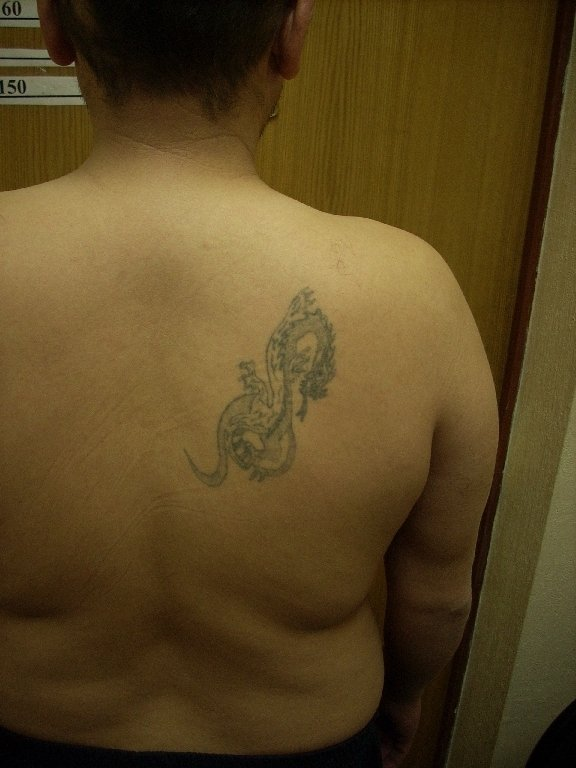tatu6_drakon: (178, 268, 361, 518)
